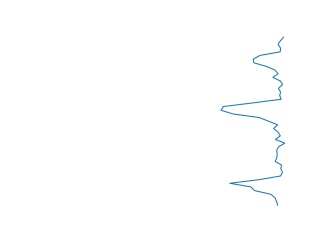underwaterNaturalLevee: (217, 36, 288, 209)
